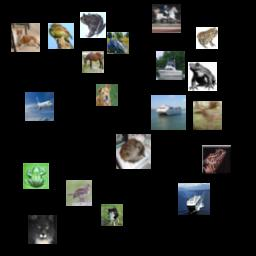airplane: (25, 92, 54, 121)
bird: (66, 180, 92, 206), (48, 23, 74, 49)
cat: (116, 134, 151, 169), (28, 215, 57, 244), (11, 23, 40, 52)
deer: (193, 101, 222, 130)
dog: (96, 84, 118, 106), (101, 204, 123, 226)
frog: (188, 62, 217, 91), (202, 145, 231, 174), (23, 163, 49, 189), (80, 12, 106, 38), (196, 27, 218, 49)
ship: (151, 95, 186, 130), (178, 183, 210, 215), (156, 51, 185, 80)
truck: (107, 32, 129, 54)
